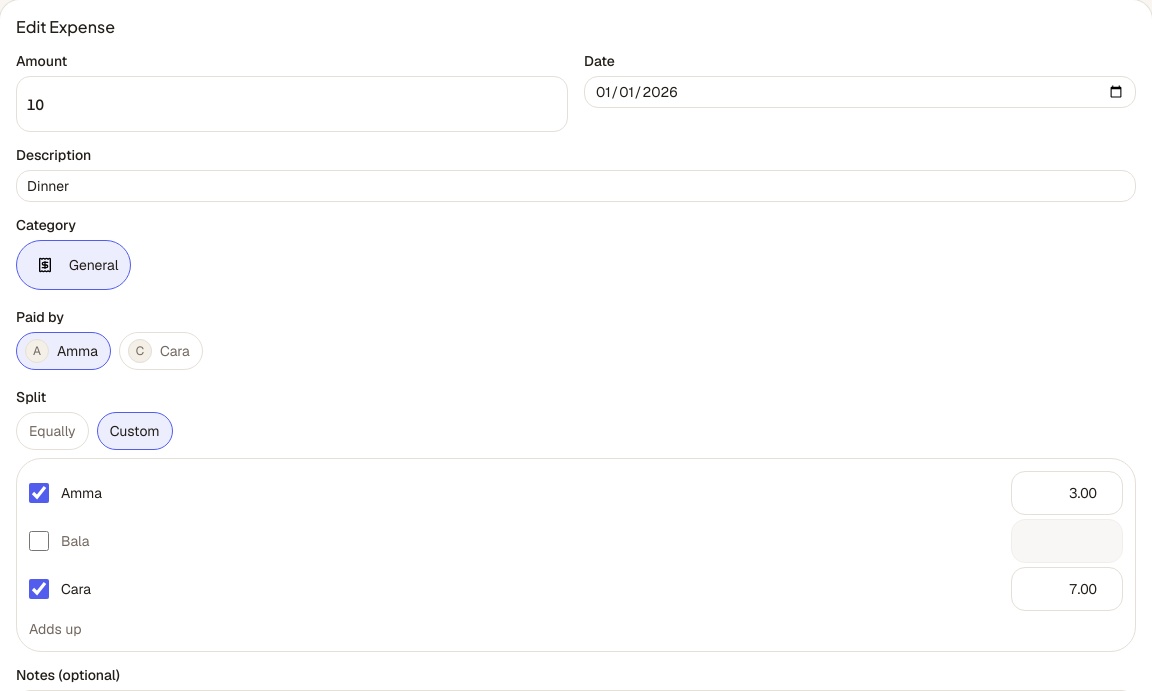
it: ExpenseForm Split › typing the amount back to the saved total restores the saved shares
This screenshot has width=1152, height=691.
Replace the text in the number field labelled "Amount" with "100" at (292, 104), box [16, 76, 568, 132]
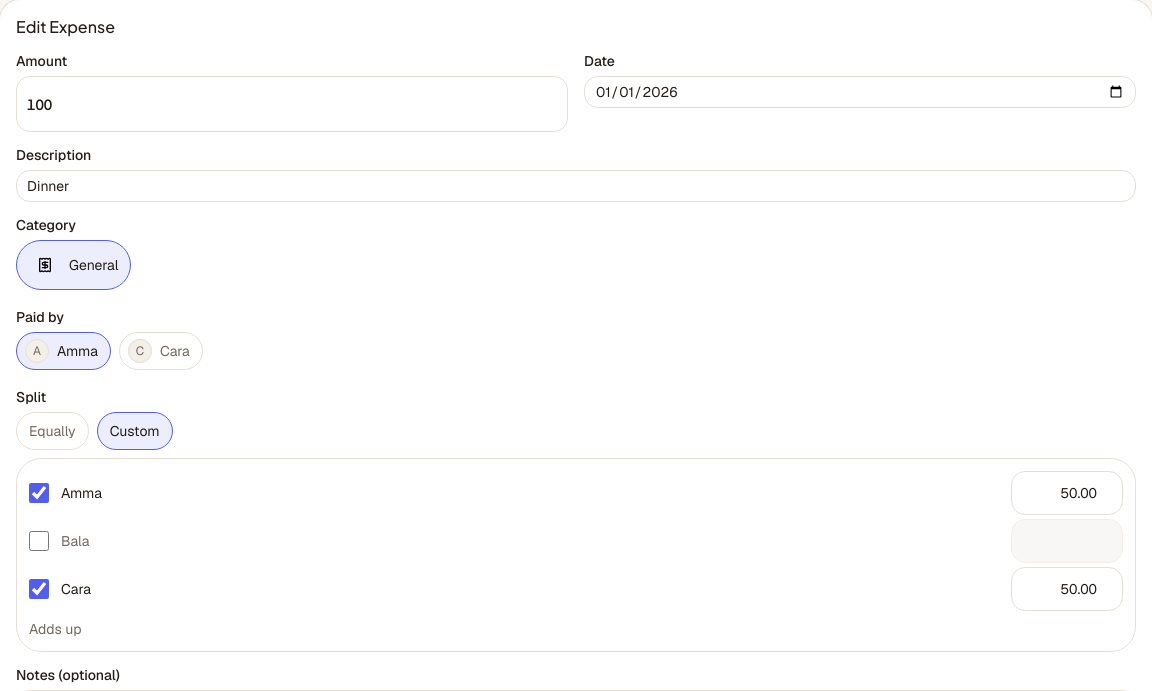
Result: the number field named "Amma's share" holds "50" at [1011, 471, 1123, 515]
Replace the text in the number field labelled "Amount" with "10" at (292, 104), box [16, 76, 568, 132]
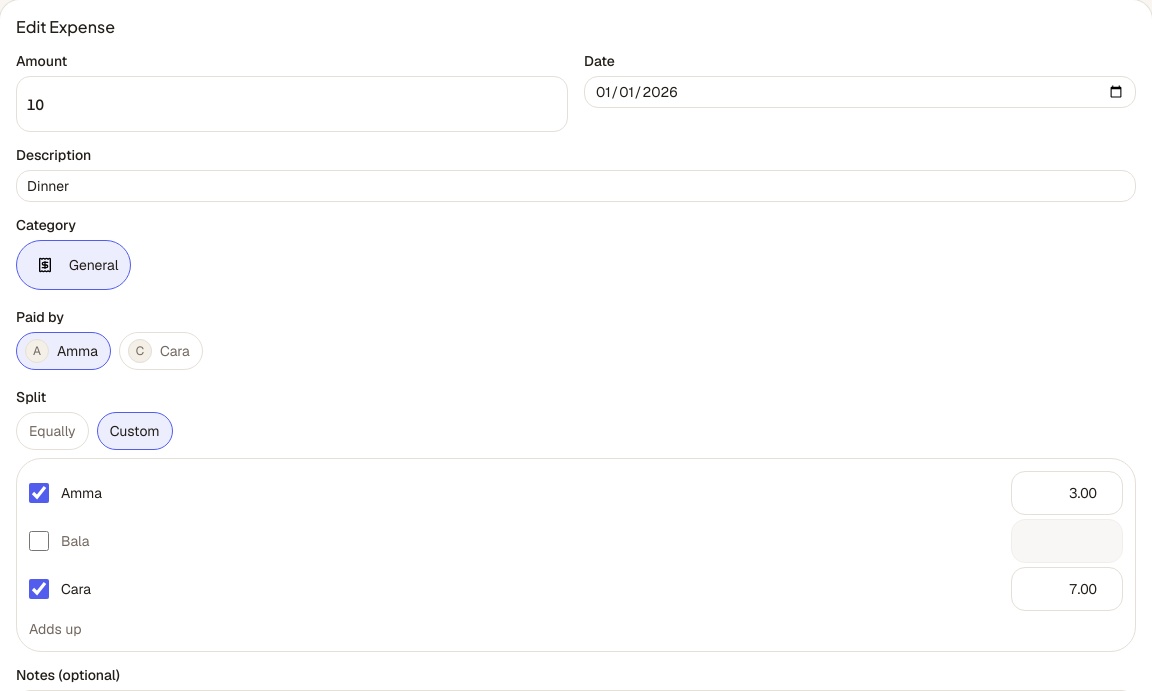
Result: the number field named "Amma's share" holds "3" at [1011, 471, 1123, 515]
Result: the number field named "Cara's share" holds "7" at [1011, 567, 1123, 611]
